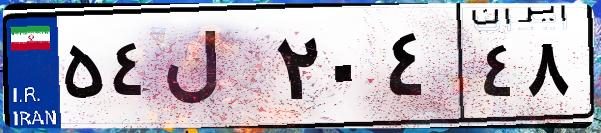0: (330, 28, 385, 110)
2: (270, 28, 330, 110)
4: (385, 28, 445, 110), (475, 38, 525, 113), (110, 28, 158, 98)
5: (57, 26, 110, 100)
8: (525, 38, 570, 115)
ل: (158, 20, 270, 120)
